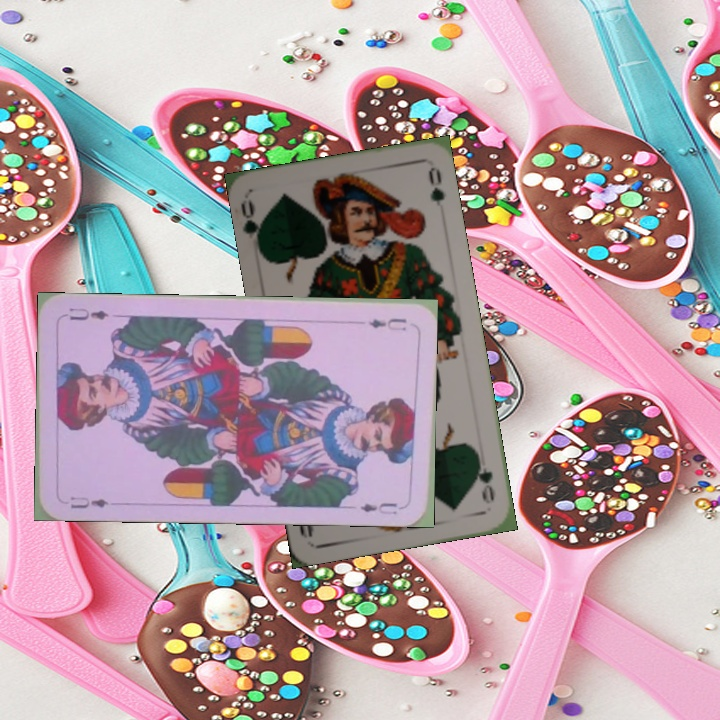EU: (66, 493, 111, 511), (365, 314, 409, 332)
GO: (236, 195, 267, 253), (472, 449, 497, 507)
